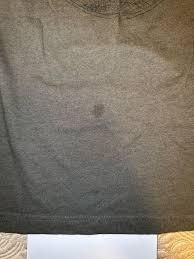mustard: (87, 98, 113, 131)
